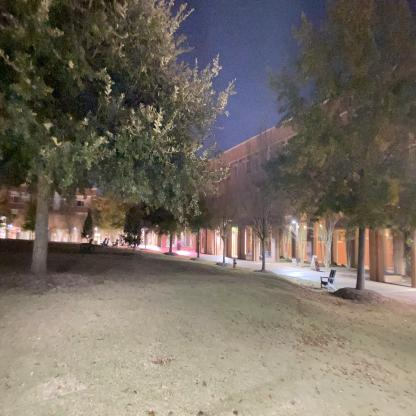eb3: (107, 85, 410, 271)
